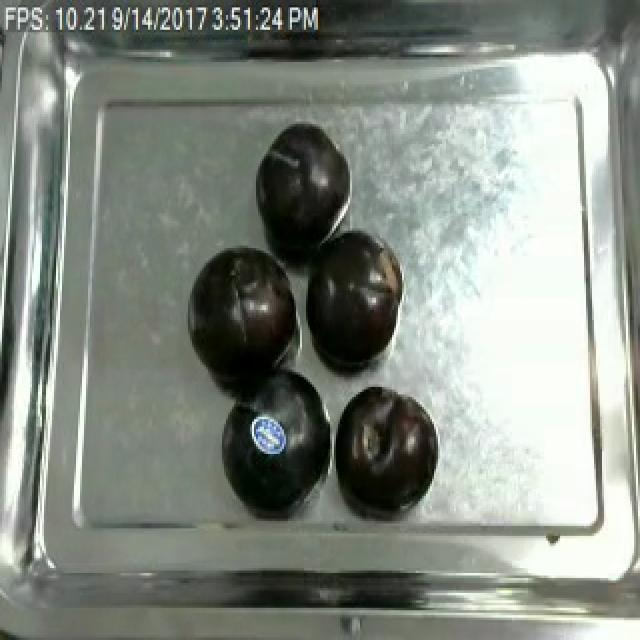Fruit: (212, 355, 336, 516), (180, 238, 304, 387), (298, 220, 408, 380), (330, 379, 442, 514), (250, 119, 354, 251)
